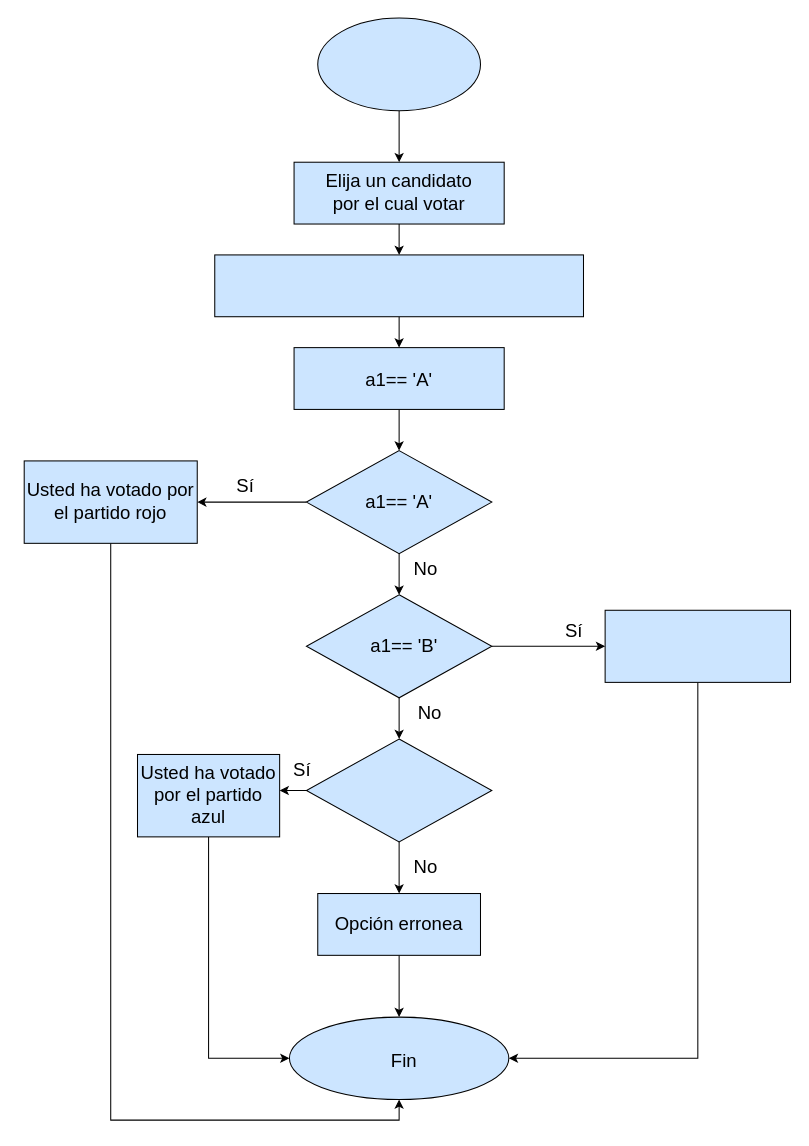
The diagram is 809 pixels wide and 1146 high, and some of its shapes have lost their labels. The centre of each missing label's shape, as x and y in pixels:
"a1== 'C'" belongs at point (398, 790).
"Inicio" belongs at point (398, 64).
"Las opciones son: A (Partido rojo). B ( Partido verde). C (Partido azul)." belongs at point (398, 285).
"Usted ha votado por el partido verde" belongs at point (697, 645).
